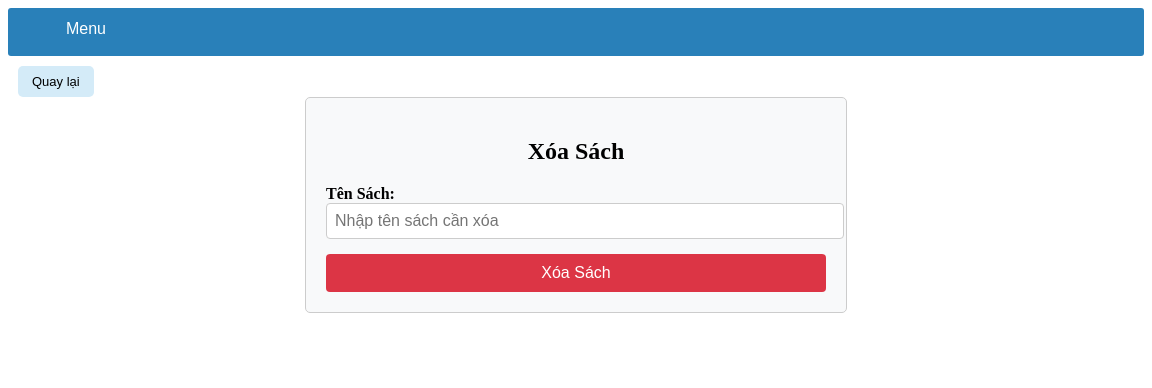
Test: Xóa Sách › TC_006 - Xóa sách không thành công (Tên sách không tồn tại)
The image size is (1152, 388).
Type "Sách không tồn tại" into the field named "tenSach".
click(585, 221); type("Sách không tồn tại")  # box [326,203,844,239]
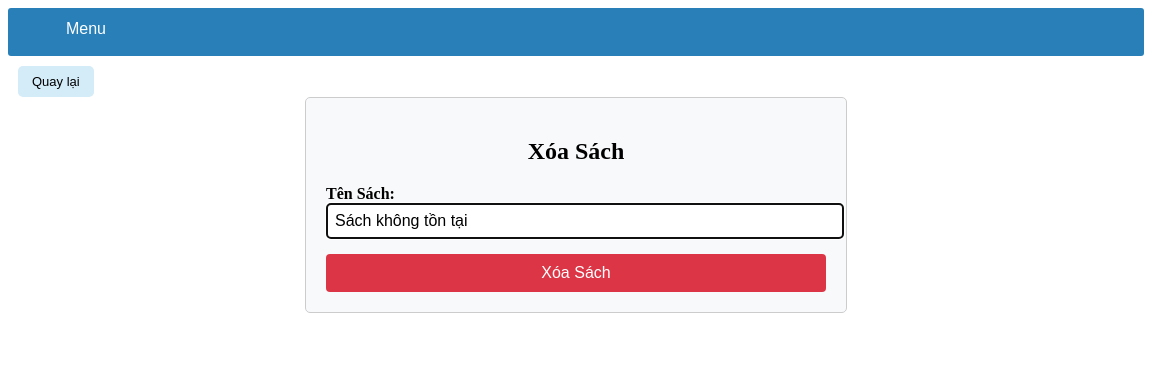
Click the submit button.
click(576, 273)  # box [326,254,826,292]
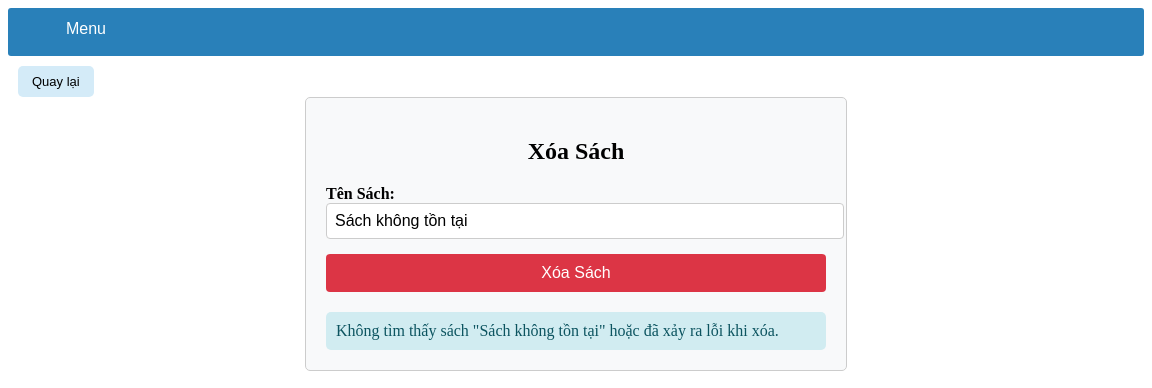
Check: the text "Không tìm thấy sách" is shown, box [336,322,779,339]
